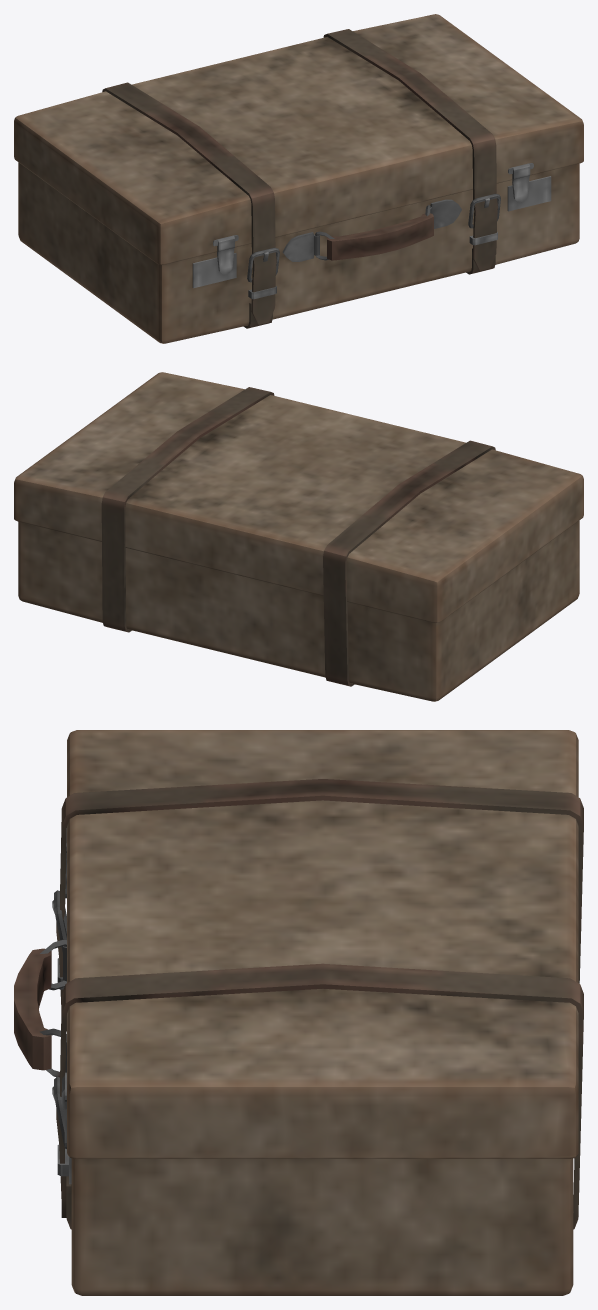
The model's file is SM_Luggage_C.fbx.
3 views of the same model, one above another, from view 1: azimuth 30°, elevation 25°; view 2: azimuth 150°, elevation 25°; view 3: azimuth 270°, elevation 25° (orthographic). The views are drawn at different scales.
Visible parts, largest first — view 1: SM_Luggage_C; view 2: SM_Luggage_C; view 3: SM_Luggage_C.
Part boxes in pixels (x1,y1,x2,y2): SM_Luggage_C: [14, 14, 583, 343]; SM_Luggage_C: [14, 372, 583, 701]; SM_Luggage_C: [14, 730, 583, 1295].
Size of the model in its own units: 0.6962 by 0.4664 by 0.2343.
